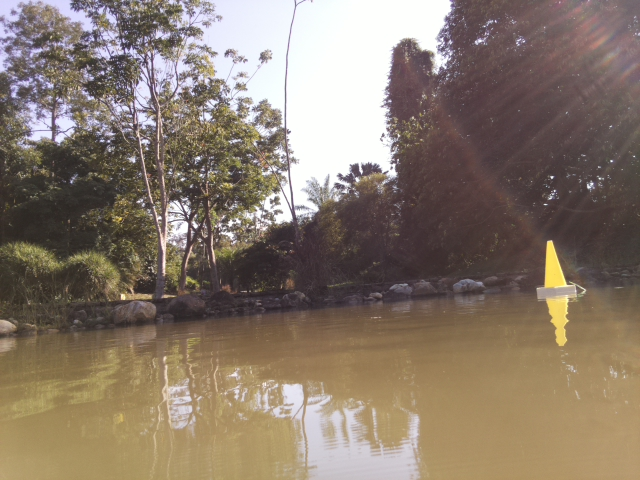checkpoint: (536, 238, 578, 298)
